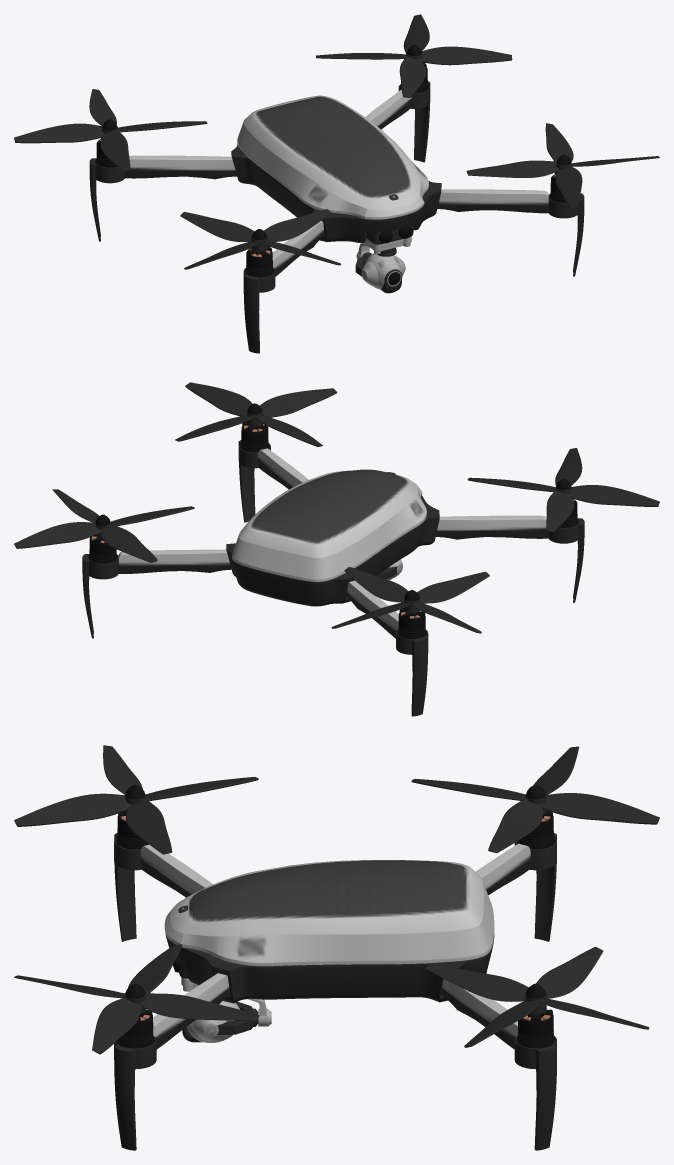
Rendered from drone.glb.
3 views of the same model, one above another, from view 1: azimuth 30°, elevation 25°; view 2: azimuth 150°, elevation 25°; view 3: azimuth 270°, elevation 25° (orthographic). The views are drawn at different scales.
Parts seen in each view (by area): view 1: upper_body.113, lower_body.111, leg_4.126, leg_2.124, leg_1.123, leg_3.125, prop_2.130, prop_3.133, prop_1.127, prop_4.002, camera.119, prop_4.003 (+4 smaller); view 2: upper_body.113, lower_body.111, leg_1.123, leg_3.125, leg_2.124, leg_4.126, prop_1.127, prop_1.002, prop_4.001, prop_4.002, prop_1.001, prop_3.133 (+5 smaller); view 3: upper_body.113, lower_body.111, leg_3.125, leg_4.126, leg_1.123, leg_2.124, prop_4.003, prop_1.001, prop_1.002, prop_4.001, prop_4.002, prop_3.133 (+7 smaller).
Part boxes in pixels (<box>): upper_body.113: <box>237,95,428,219</box>; lower_body.111: <box>231,144,441,244</box>; leg_4.126: <box>437,189,584,276</box>; leg_2.124: <box>89,155,236,241</box>; leg_1.123: <box>243,221,324,353</box>; leg_3.125: <box>365,81,430,162</box>; prop_2.130: <box>14,121,207,143</box>; prop_3.133: <box>316,46,512,65</box>; prop_1.127: <box>184,209,331,269</box>; prop_4.002: <box>466,156,659,177</box>; camera.119: <box>355,243,405,293</box>; prop_4.003: <box>180,212,340,265</box>; upper_body.113: <box>232,469,426,581</box>; lower_body.111: <box>226,495,439,606</box>; leg_1.123: <box>435,515,584,602</box>; leg_3.125: <box>82,549,231,638</box>; leg_2.124: <box>346,580,428,716</box>; leg_4.126: <box>238,440,308,522</box>; prop_1.127: <box>467,477,659,506</box>; prop_1.002: <box>175,388,337,441</box>; prop_4.001: <box>14,506,194,548</box>; prop_4.002: <box>185,382,322,446</box>; prop_1.001: <box>331,571,489,628</box>; prop_3.133: <box>52,489,157,562</box>; upper_body.113: <box>164,860,494,966</box>; lower_body.111: <box>165,933,494,1003</box>; leg_3.125: <box>441,979,556,1150</box>; leg_4.126: <box>114,973,229,1150</box>; leg_1.123: <box>114,833,212,941</box>; leg_2.124: <box>476,833,556,941</box>; prop_4.003: <box>14,777,258,826</box>; prop_1.001: <box>411,779,659,824</box>; prop_1.002: <box>14,975,259,1021</box>; prop_4.001: <box>425,963,649,1029</box>; prop_4.002: <box>92,944,182,1054</box>; prop_3.133: <box>464,946,603,1047</box>.
Bounding box in the file's own units: 26.37 × 6.65 × 23.44.
Materials: 77 (77 with a texture image).
